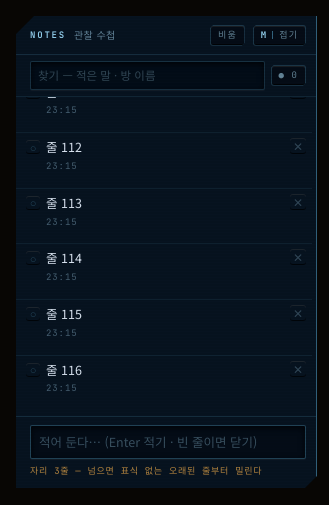
it: 차 갈 때 › 치는 중에는 상한 경고가 나가는 문을 안 가린다
(page scrolled)
Focus the field named "수첩에 한 줄 적기": (168, 442) x1=30 y1=424 x2=306 y2=459
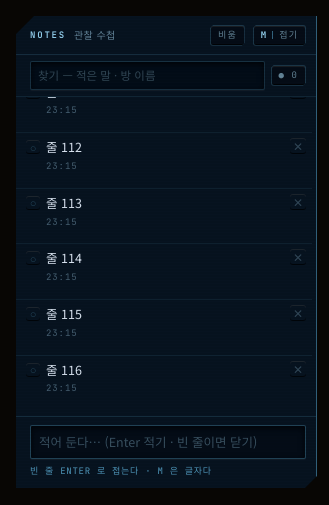
Expected: the text "빈 줄 ENTER 로 접는다 · M 은 글자다" is shown, x1=30 y1=465 x2=212 y2=477
Expected: the text "자리 3줄" is gone
